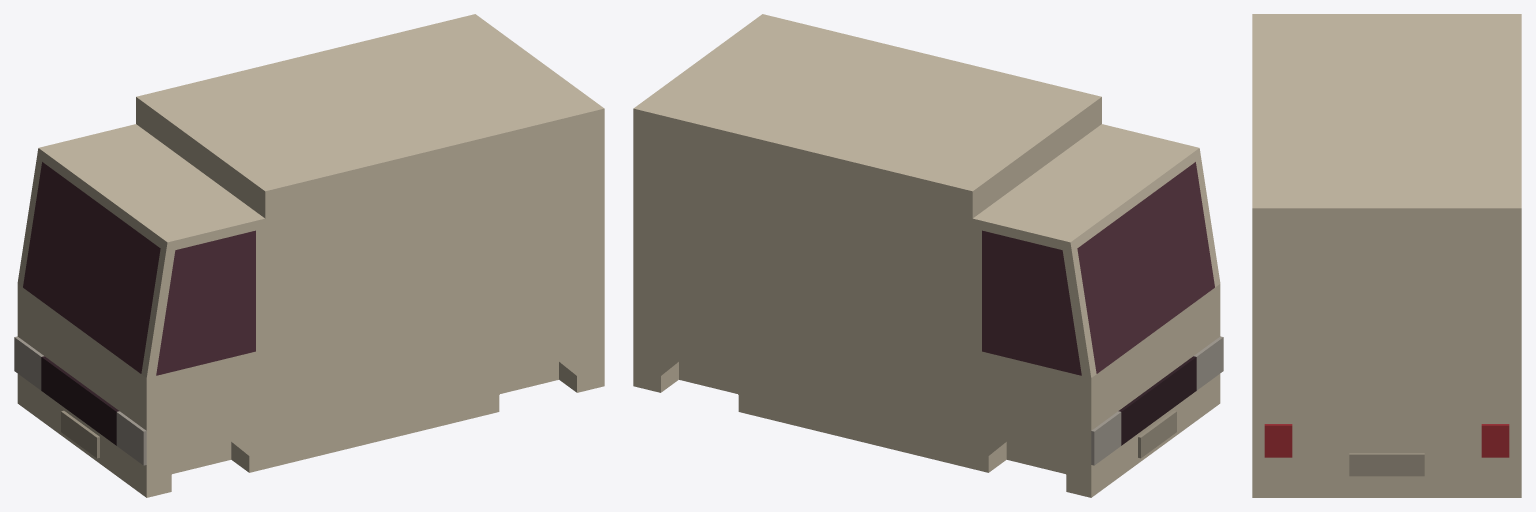
Rendered from MiniTruck_White.fbx.
3 renders of one model, left to right at view 1: azimuth 30°, elevation 25°; view 2: azimuth 150°, elevation 25°; view 3: azimuth 270°, elevation 25°, orthographic. The views are drawn at different scales.
Parts seen in each view (by area): view 1: MiniTruck_White, MiniTruck_Lights; view 2: MiniTruck_White, MiniTruck_Lights; view 3: MiniTruck_White, MiniTruck_Lights.
Part boxes in pixels (left/top/right/bottom): MiniTruck_White: left=17, top=14, right=604, bottom=497; MiniTruck_Lights: left=14, top=336, right=146, bottom=465; MiniTruck_White: left=633, top=14, right=1220, bottom=497; MiniTruck_Lights: left=1091, top=336, right=1223, bottom=465; MiniTruck_White: left=1252, top=14, right=1521, bottom=497; MiniTruck_Lights: left=1264, top=424, right=1509, bottom=457.
Size of the model in its own units: 4.46 by 2.55 by 2.15.
